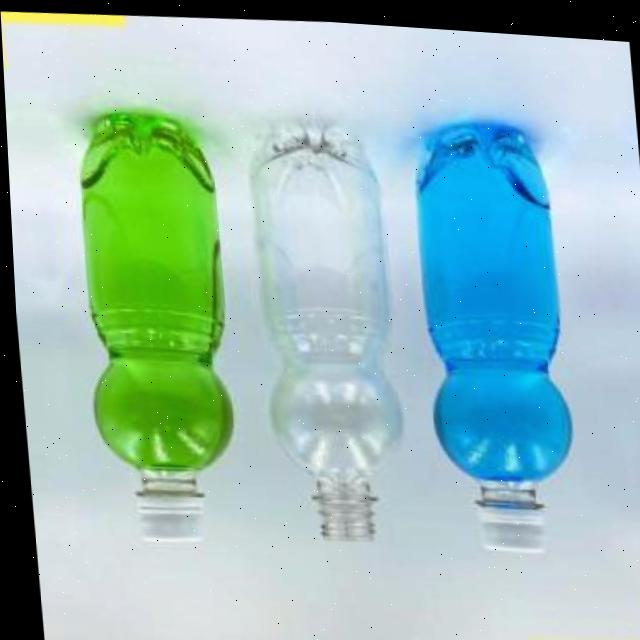sise: (387, 103, 592, 555), (39, 106, 250, 545), (226, 111, 415, 550)
